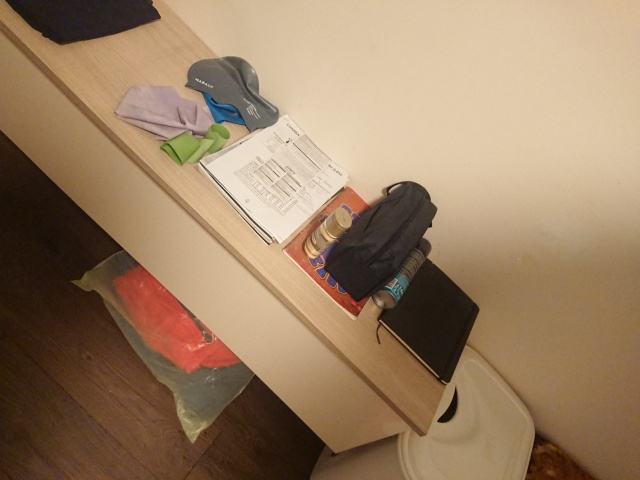Kotanyi Garlic Granules 70g: (300, 206, 353, 261)
